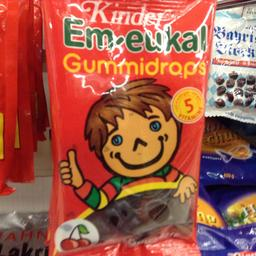candy: (42, 0, 208, 254)
